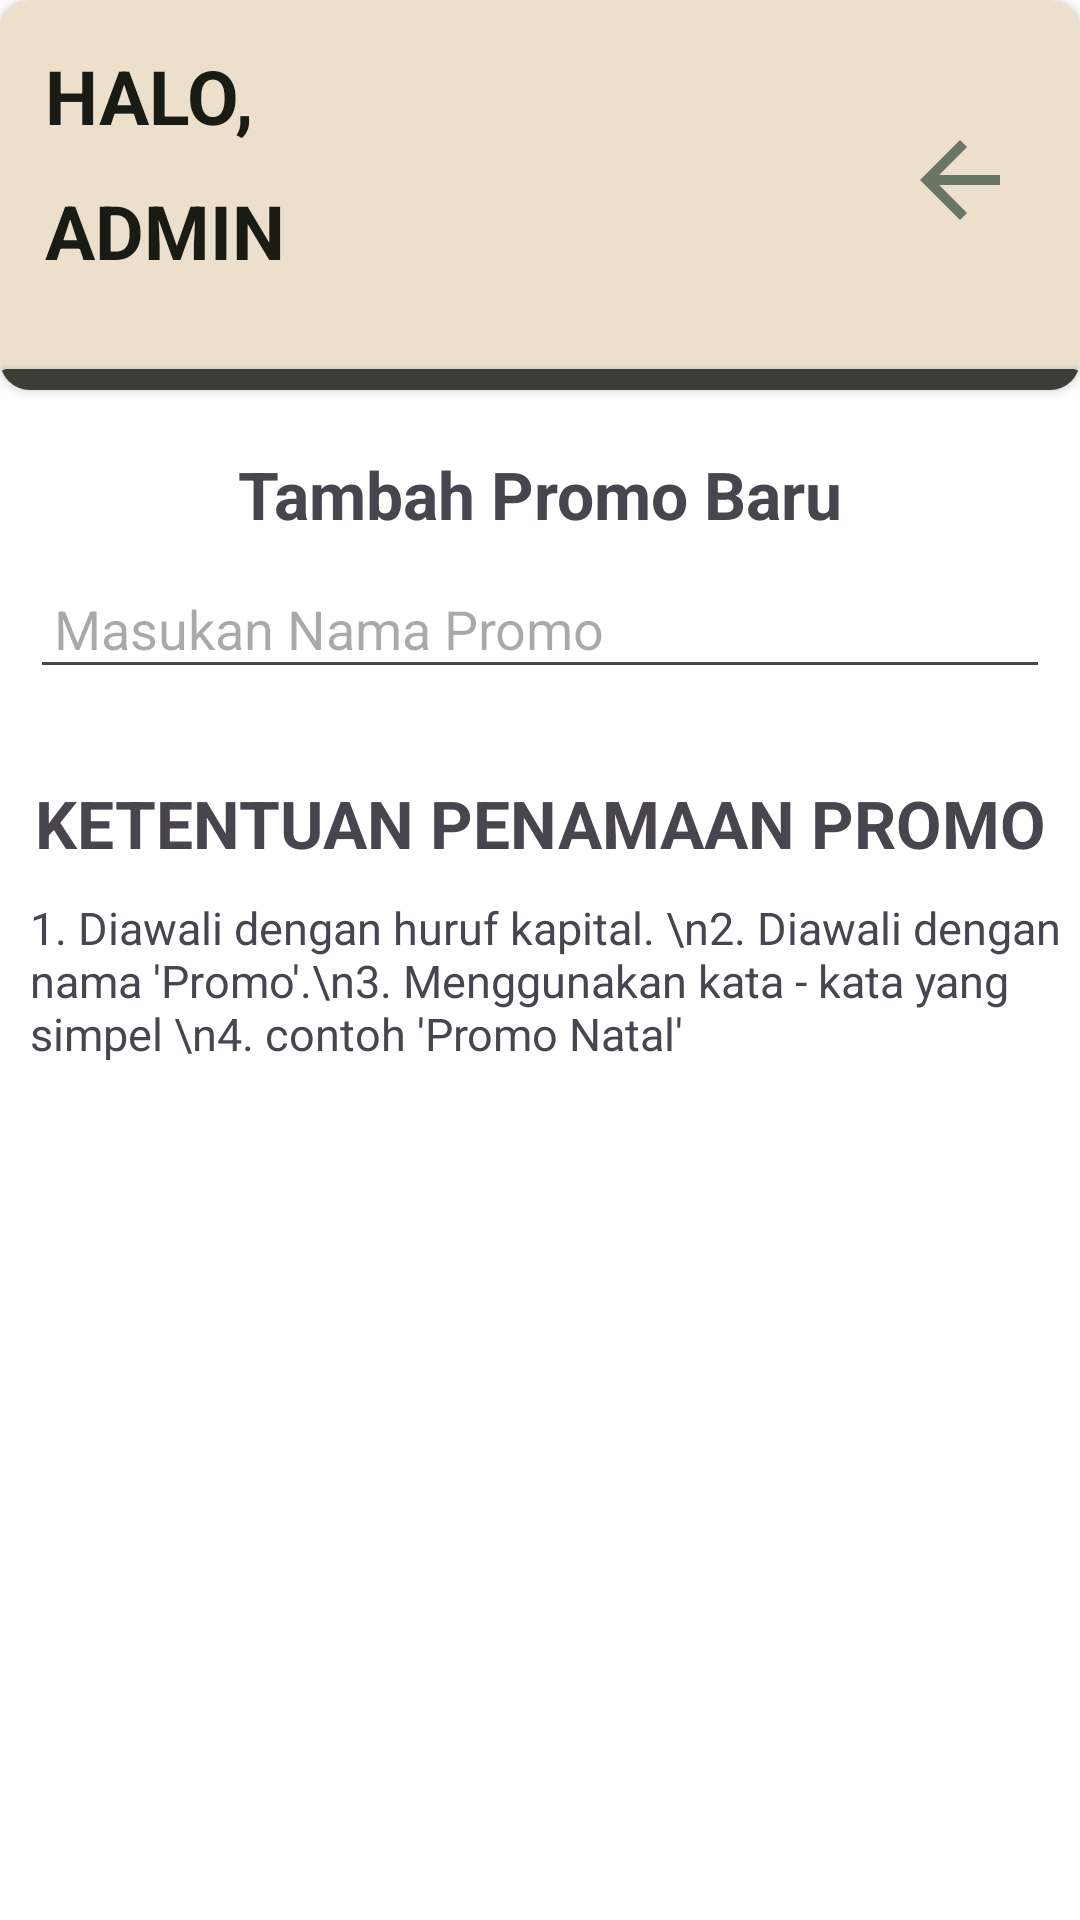

Point at icon controls on the screen. Image size 1080x1920, points as [x,y].
kembali: [960,180]
